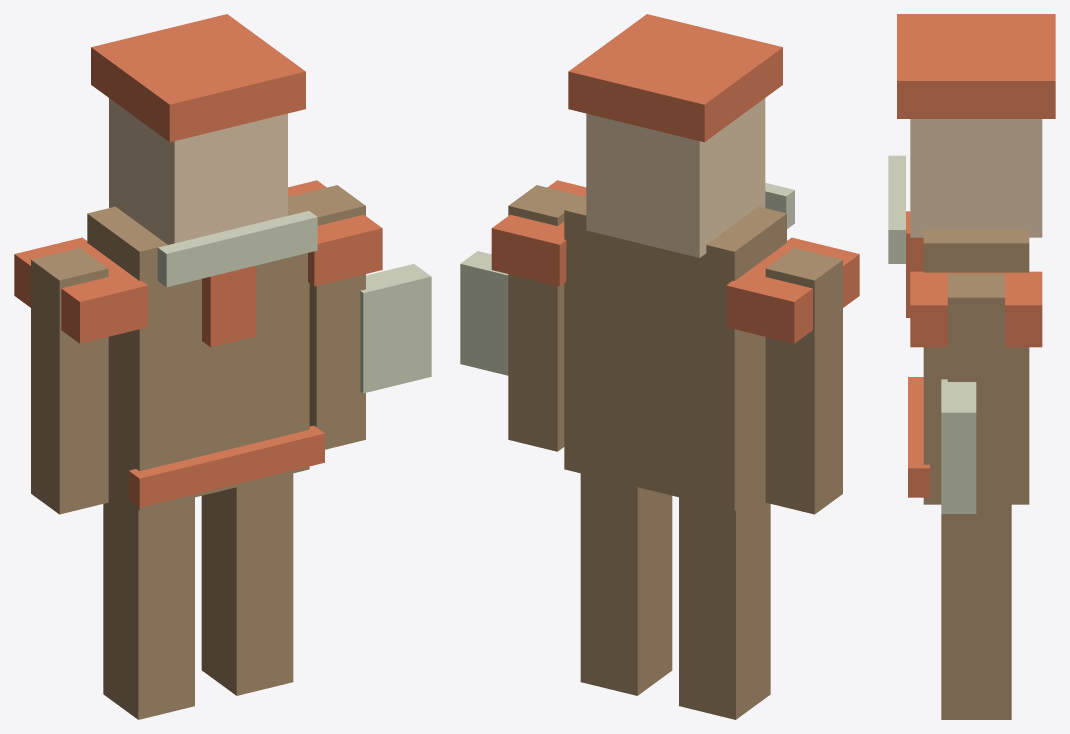
Rendered from 08_brant_chromabell_responder_of_hound.glb.
3 views of the same model, side by side, from view 1: azimuth 30°, elevation 25°; view 2: azimuth 150°, elevation 25°; view 3: azimuth 270°, elevation 25° (orthographic).
Visible parts, largest first — view 1: Brant Chromabell, Responder of Hound; view 2: Brant Chromabell, Responder of Hound; view 3: Brant Chromabell, Responder of Hound.
Part boxes in pixels (box(x1,y1,x2,y2)): Brant Chromabell, Responder of Hound: box(14, 14, 431, 719); Brant Chromabell, Responder of Hound: box(460, 14, 859, 719); Brant Chromabell, Responder of Hound: box(888, 14, 1055, 719).
Size of the model in its own units: 1.05 by 1.71 by 0.4095.
